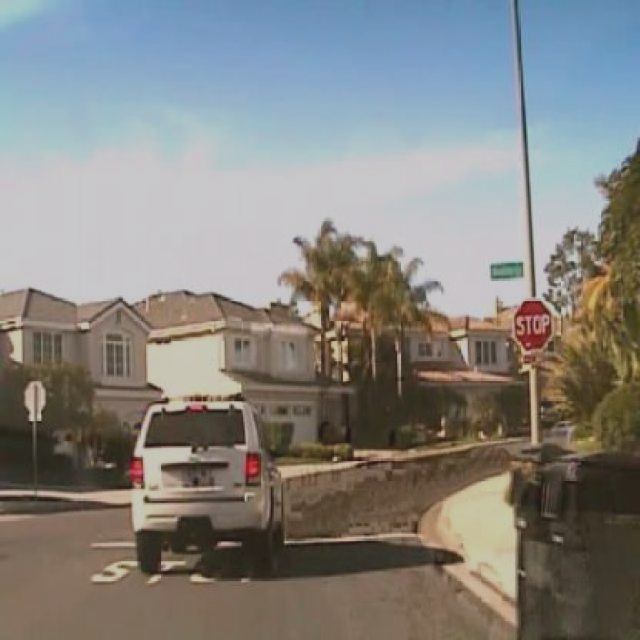stop: (514, 297, 554, 350)
